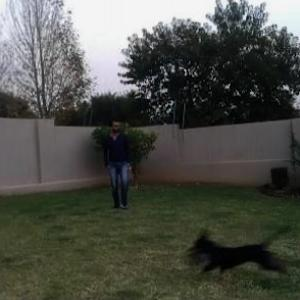follow: (104, 116, 132, 212)
